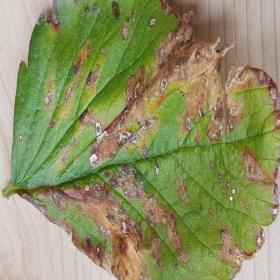Angular Leafspot: (11, 0, 279, 279)
